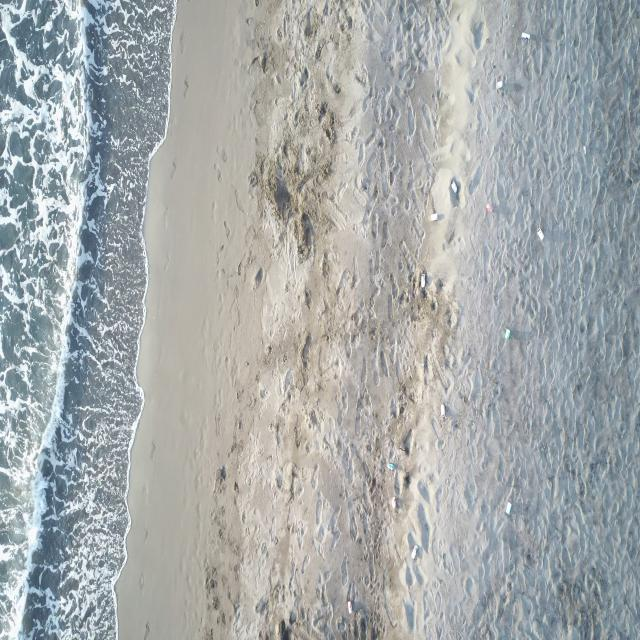tin-and-aluminum-cans: (505, 499, 513, 516), (411, 542, 418, 560), (347, 599, 353, 616), (537, 227, 544, 241), (451, 180, 458, 194), (420, 272, 426, 288), (429, 212, 438, 222), (440, 404, 446, 419), (391, 496, 397, 510), (521, 32, 531, 40), (486, 203, 494, 213), (386, 461, 394, 471), (496, 80, 503, 90), (505, 328, 510, 340)
